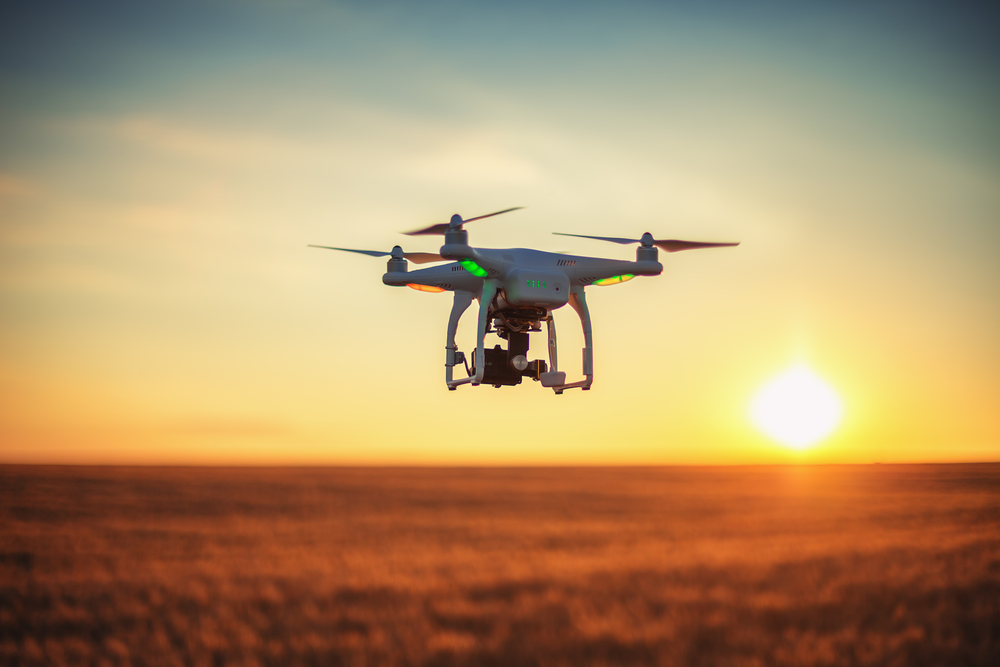drone: (304, 206, 738, 394)
